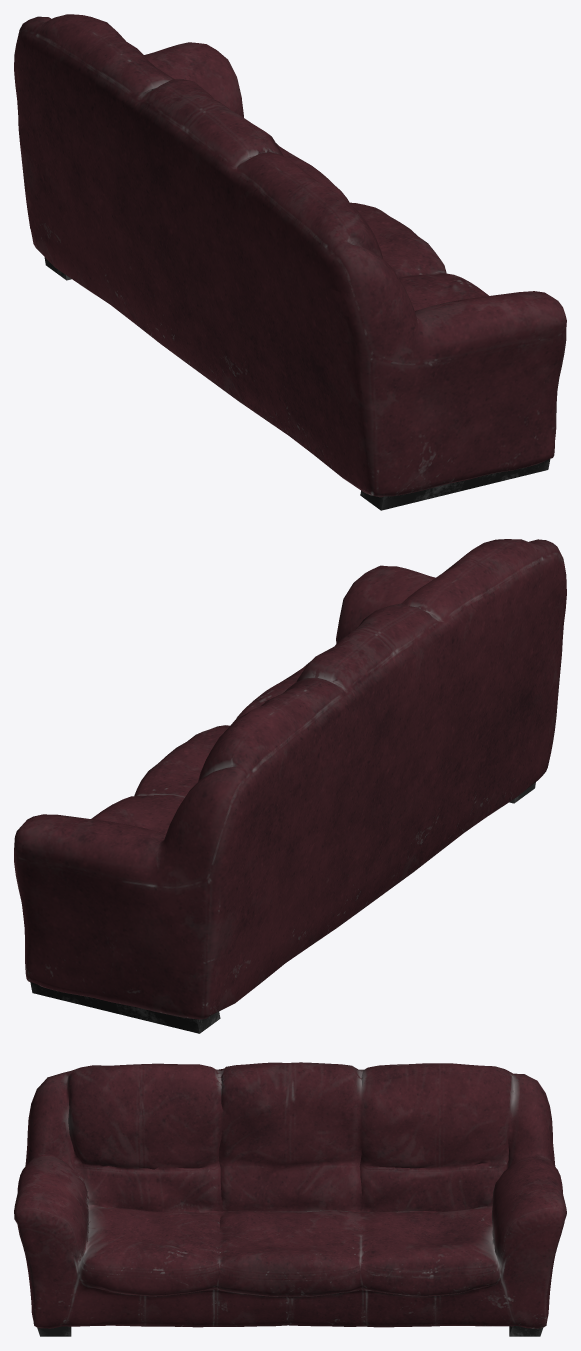
The model's file is leather_sofa.glb.
3 renders of one model, top to bottom at view 1: azimuth 30°, elevation 25°; view 2: azimuth 150°, elevation 25°; view 3: azimuth 270°, elevation 25°, orthographic. The views are drawn at different scales.
Visible parts, largest first — view 1: Sofa_low, Patas_low; view 2: Sofa_low, Patas_low; view 3: Sofa_low, Patas_low.
Boxes of the visible parts, bbox=[...] form: Sofa_low: bbox=[14, 14, 566, 497]; Patas_low: bbox=[44, 257, 550, 510]; Sofa_low: bbox=[14, 539, 566, 1019]; Patas_low: bbox=[30, 782, 535, 1033]; Sofa_low: bbox=[14, 1062, 566, 1328]; Patas_low: bbox=[37, 1326, 542, 1336].
Bounding box in the file's own units: 0.0144 × 0.0165 × 0.0392.
1 material, 1 textured.
